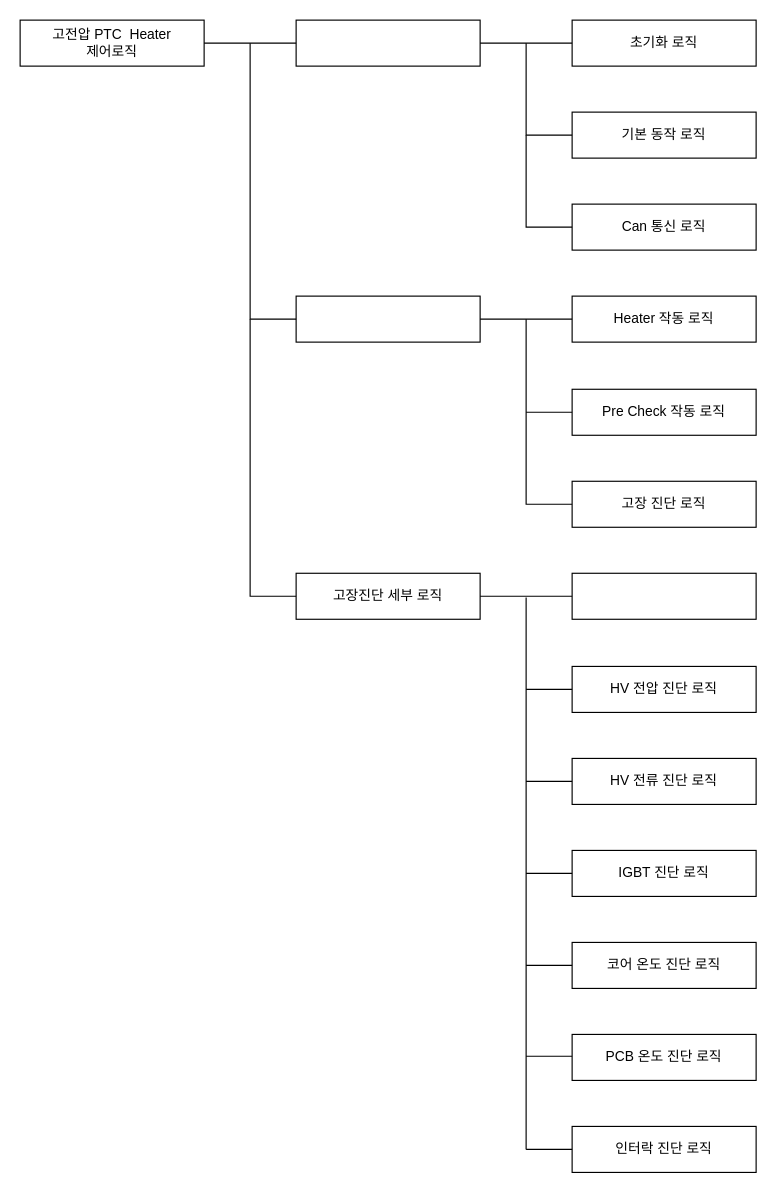
The diagram is 776 pixels wide and 1193 high, and some of its shapes have lost their labels. The box of each missing label's shape, as (x1, y1, x2, y2) in pixels:
LV 전압 진단 로직: (571, 572, 756, 619)
기본 로직: (295, 19, 480, 66)
작동 로직: (295, 295, 480, 342)
